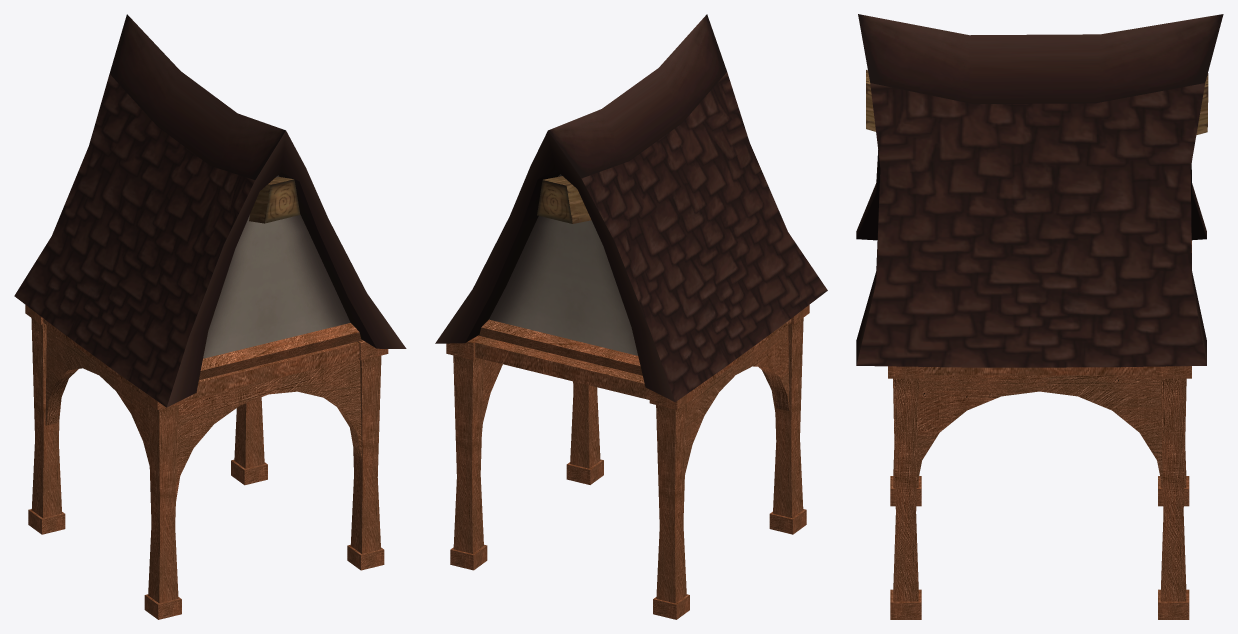
The model's file is fanasty_mod_conjoining_piece_G.fbx.
3 renders of one model, left to right at view 1: azimuth 30°, elevation 25°; view 2: azimuth 150°, elevation 25°; view 3: azimuth 270°, elevation 25°, orthographic. The views are drawn at different scales.
Visible parts, largest first — view 1: conjoining_piece_G; view 2: conjoining_piece_G; view 3: conjoining_piece_G.
Boxes of the visible parts, x1,y1,x2,y2 form: conjoining_piece_G: (14,14,406,619); conjoining_piece_G: (435,14,827,619); conjoining_piece_G: (856,14,1223,619).
Size of the model in its own units: 3.85 by 7.23 by 4.43.
